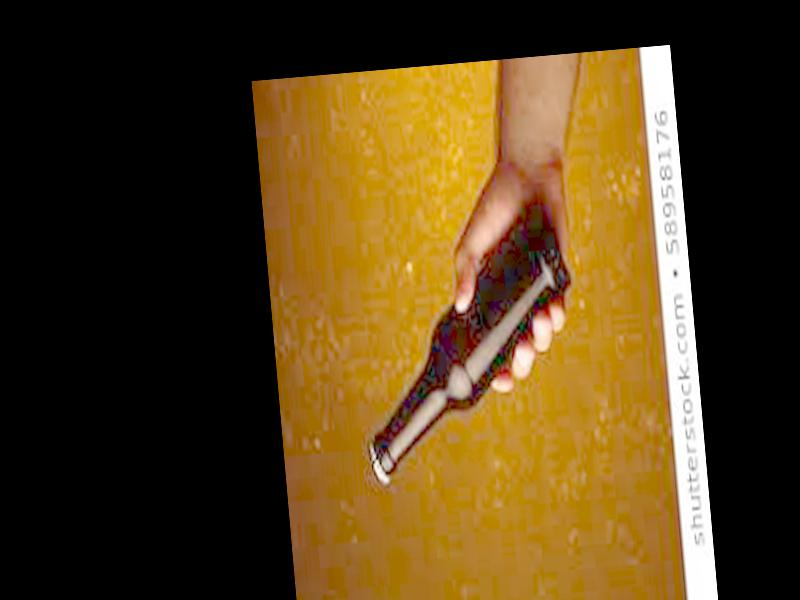Beer: (346, 191, 587, 489)
